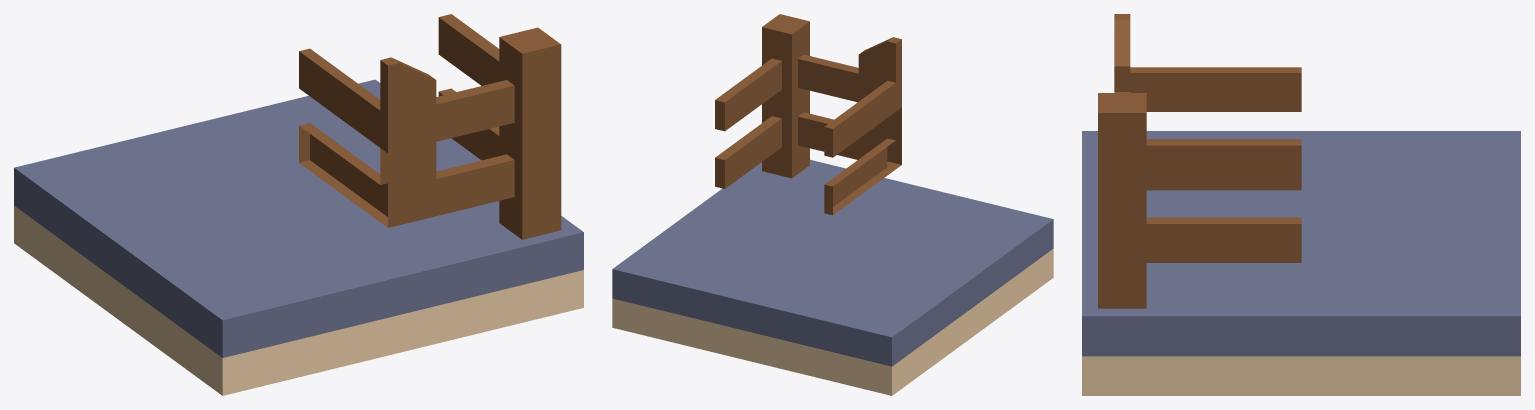
Rendered from barricade.glb.
The picture shows the model from 3 angles, left to right: view 1: azimuth 30°, elevation 25°; view 2: azimuth 150°, elevation 25°; view 3: azimuth 270°, elevation 25°; orthographic projection. The views are drawn at different scales.
Parts seen in each view (by area): view 1: tile_empty, Cube; view 2: tile_empty, Cube; view 3: tile_empty, Cube.
Boxes of the visible parts, bbox=[...] form: tile_empty: bbox=[14, 79, 583, 395]; Cube: bbox=[299, 14, 561, 239]; tile_empty: bbox=[612, 159, 1053, 395]; Cube: bbox=[715, 14, 901, 215]; tile_empty: bbox=[1082, 131, 1520, 395]; Cube: bbox=[1098, 14, 1301, 308].
Bounding box in the file's own units: 1 × 0.7274 × 1.
